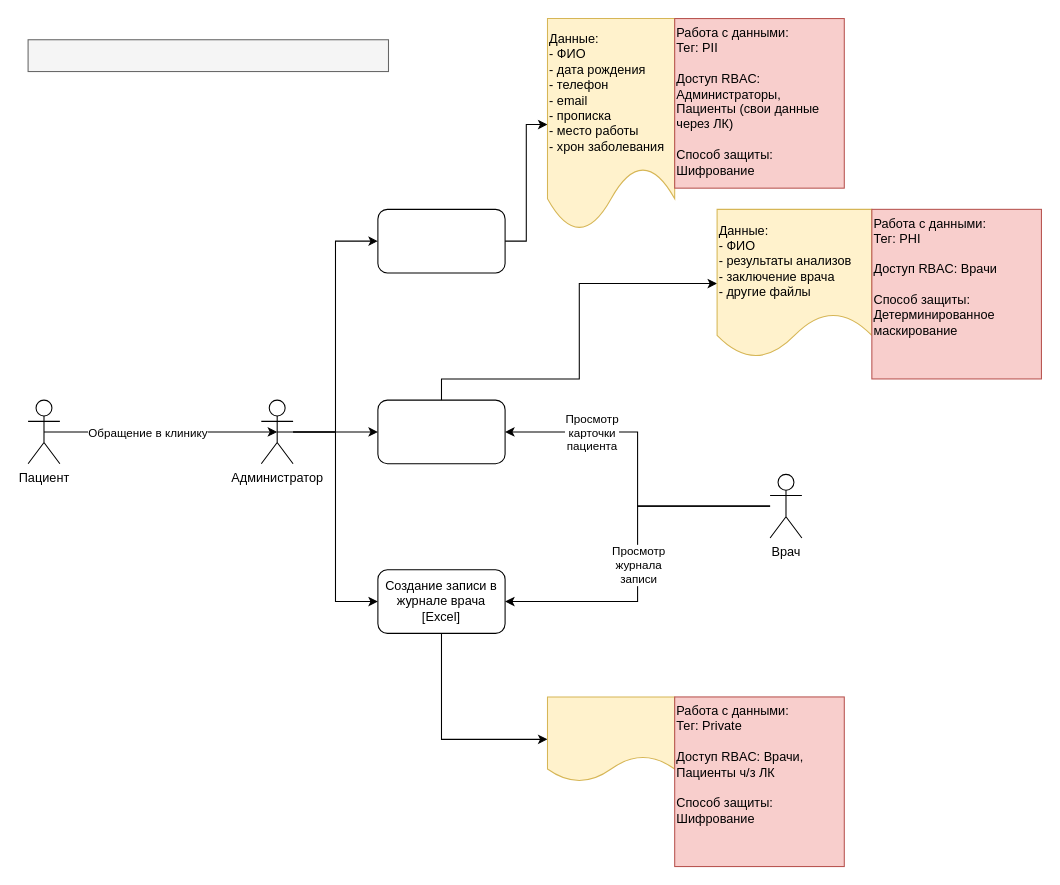
This 1060x885 diagram has some shape labels left out. The centre of each missing label's shape, as x and y in pixels:
"Данные: - ФИО - Имя врача - дата/время" goes at point 610,739.
"Процесс: Запись пациента к специалисту" goes at point 207,55.
"Регистрация пациента в реестре [Excel]" goes at point 441,240.
"Создание карточки пациента [File]" goes at point 441,431.
